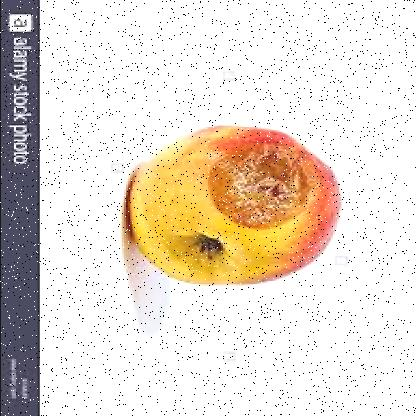damaged_apple: (131, 119, 345, 286)
